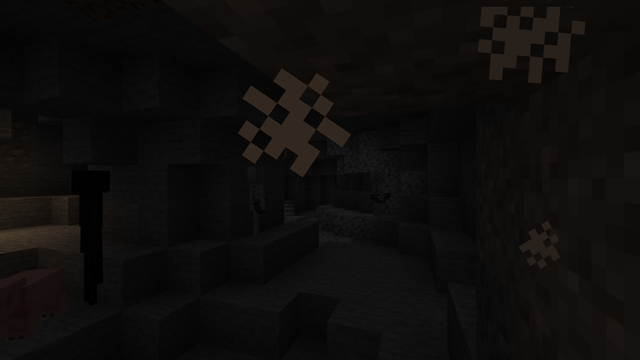cochons: (5, 265, 70, 339)
endermens: (64, 165, 114, 310)
squelettes: (246, 166, 266, 236), (369, 171, 384, 217)
